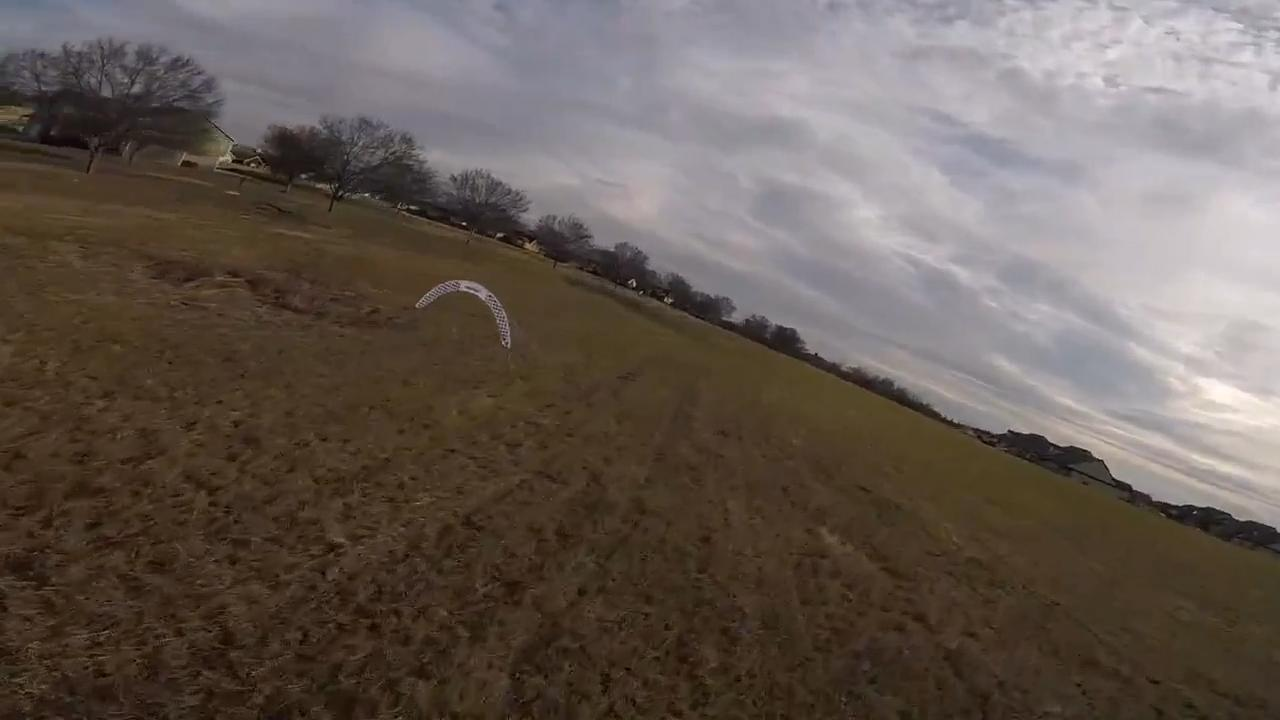gate: (411, 276, 514, 354)
